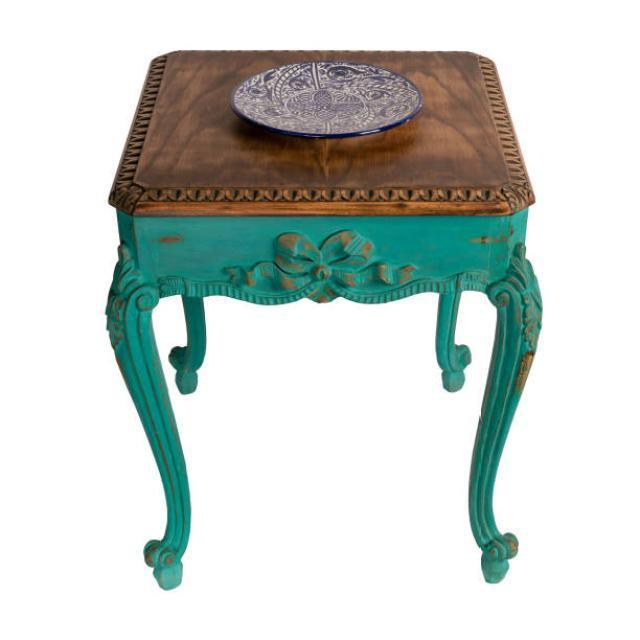table: (103, 48, 542, 590)
